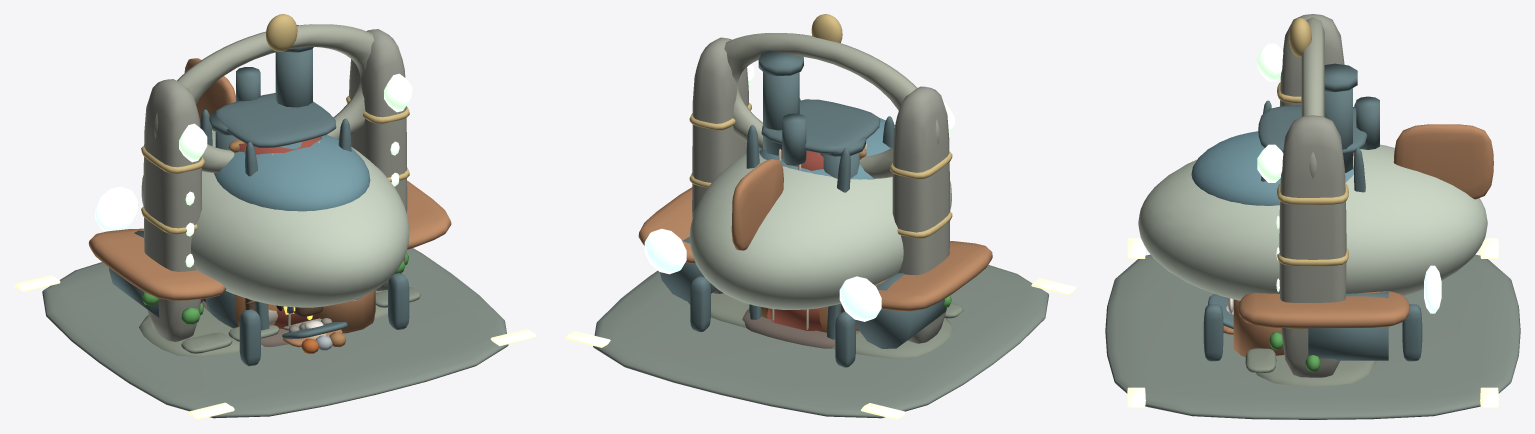
Rendered from granja_maquinas.glb.
3 views of the same model, side by side, from view 1: azimuth 30°, elevation 25°; view 2: azimuth 150°, elevation 25°; view 3: azimuth 270°, elevation 25° (orthographic). The views are drawn at different scales.
Visible parts, largest first — view 1: plataforma nave, casco nave, pilar -0.76, cabina nave, ala -1, arco portal, corona taladro, eje rotor, portal base, anillo pilar -0.760.5, boca chimenea, gema portal -0.76 (+7 smaller); view 2: plataforma nave, casco nave, pilar -0.76, ala -1, eje rotor, arco portal, corona taladro, tobera -1, boca chimenea, portal base, anillo pilar -0.760.5, base horno alto (+4 smaller); view 3: plataforma nave, casco nave, pilar -0.76, ala -1, eje rotor, cabina nave, portal base, boca chimenea, corona taladro, arco portal, anillo pilar -0.760.5, gema portal -0.76 (+5 smaller).
Boxes of the visible parts, x1=… form: plataforma nave: x1=42, y1=248, x2=508, y2=418; casco nave: x1=141, y1=123, x2=409, y2=307; pilar -0.76: x1=143, y1=29, x2=407, y2=341; cabina nave: x1=214, y1=135, x2=370, y2=211; ala -1: x1=88, y1=58, x2=451, y2=300; arco portal: x1=154, y1=24, x2=374, y2=172; corona taladro: x1=200, y1=93, x2=351, y2=330; eje rotor: x1=109, y1=67, x2=409, y2=366; portal base: x1=139, y1=287, x2=420, y2=357; anillo pilar -0.760.5: x1=141, y1=14, x2=409, y2=234; boca chimenea: x1=275, y1=25, x2=313, y2=107; gema portal -0.76: x1=179, y1=73, x2=412, y2=162; plataforma nave: x1=593, y1=265, x2=1048, y2=418; casco nave: x1=690, y1=151, x2=951, y2=309; pilar -0.76: x1=692, y1=37, x2=949, y2=343; ala -1: x1=638, y1=158, x2=992, y2=311; eje rotor: x1=660, y1=113, x2=946, y2=367; arco portal: x1=724, y1=33, x2=939, y2=178; corona taladro: x1=746, y1=98, x2=894, y2=339; tobera -1: x1=644, y1=228, x2=881, y2=321; boca chimenea: x1=758, y1=50, x2=803, y2=155; portal base: x1=688, y1=293, x2=963, y2=358; anillo pilar -0.760.5: x1=689, y1=14, x2=952, y2=238; base horno alto: x1=742, y1=309, x2=859, y2=348; plataforma nave: x1=1105, y1=254, x2=1520, y2=419; casco nave: x1=1138, y1=144, x2=1487, y2=300; pilar -0.76: x1=1279, y1=14, x2=1346, y2=377; ala -1: x1=1238, y1=124, x2=1493, y2=327; eje rotor: x1=1203, y1=96, x2=1422, y2=361; cabina nave: x1=1191, y1=131, x2=1353, y2=205; portal base: x1=1245, y1=348, x2=1376, y2=386; boca chimenea: x1=1324, y1=63, x2=1357, y2=172; corona taladro: x1=1258, y1=100, x2=1367, y2=192; arco portal: x1=1301, y1=17, x2=1324, y2=178; anillo pilar -0.760.5: x1=1277, y1=18, x2=1348, y2=328; gema portal -0.76: x1=1257, y1=43, x2=1283, y2=182.
Size of the model in its own units: 2.64 by 2.24 by 2.64.
